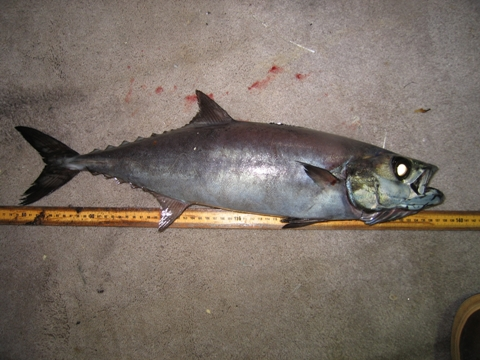fish: (15, 89, 447, 235)
